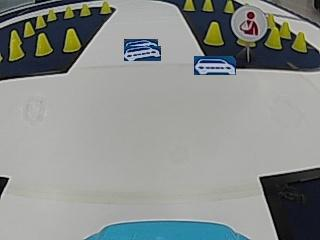cone: (204, 21, 224, 46), (62, 28, 81, 52), (9, 31, 24, 59), (34, 33, 52, 56), (265, 25, 282, 49), (292, 31, 307, 52), (24, 21, 35, 36), (280, 21, 290, 37), (99, 1, 111, 14), (35, 15, 46, 28), (63, 5, 74, 18), (80, 3, 91, 16), (183, 0, 195, 11), (202, 0, 213, 12), (46, 9, 57, 21), (224, 1, 234, 13)
patient: (238, 6, 264, 38)
